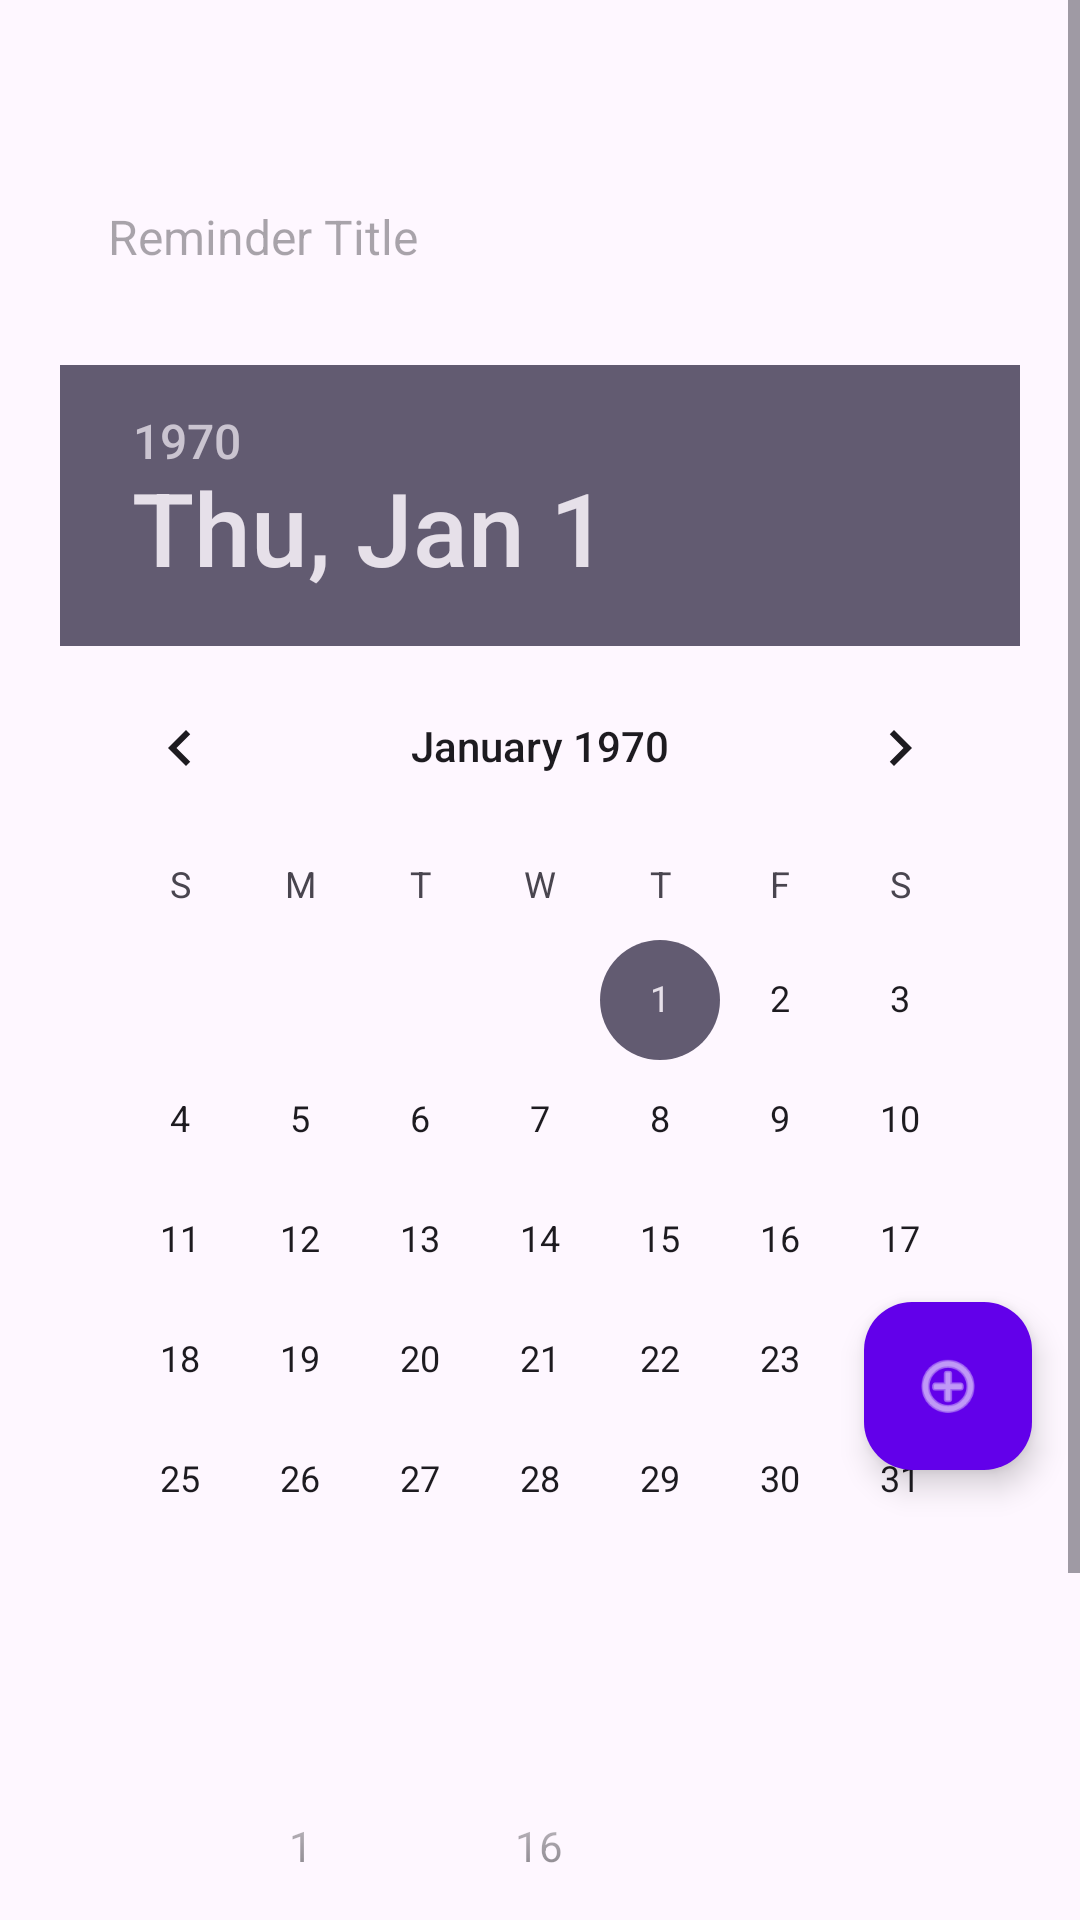

Screen size 1080x1920. Icon name, then its center in pixels as (x=x, y=y):
add: (x=948, y=1386)
